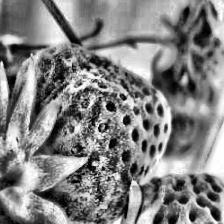Powdery Mildew Fruit: (0, 42, 173, 224)
